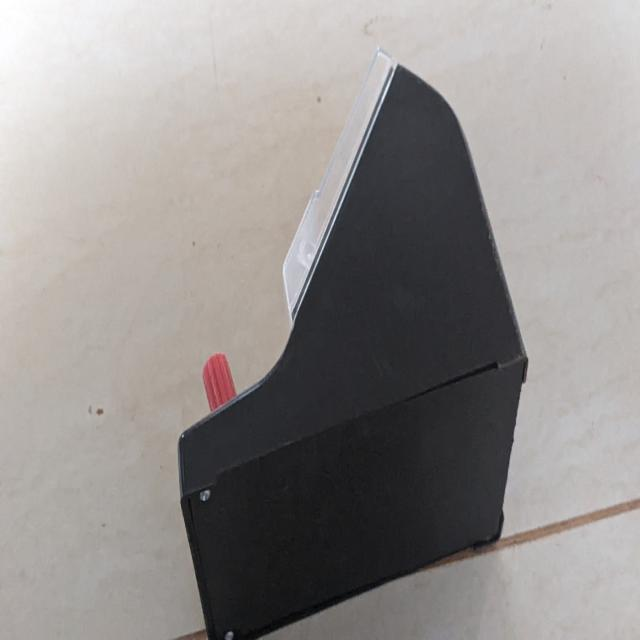Galvanometer: (152, 34, 532, 640)
